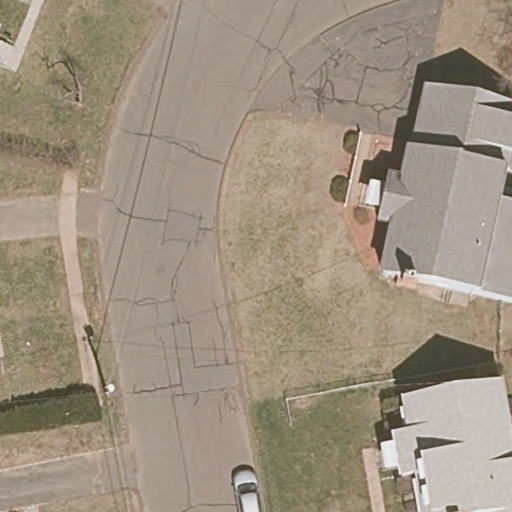DT: (99, 382, 116, 408)
